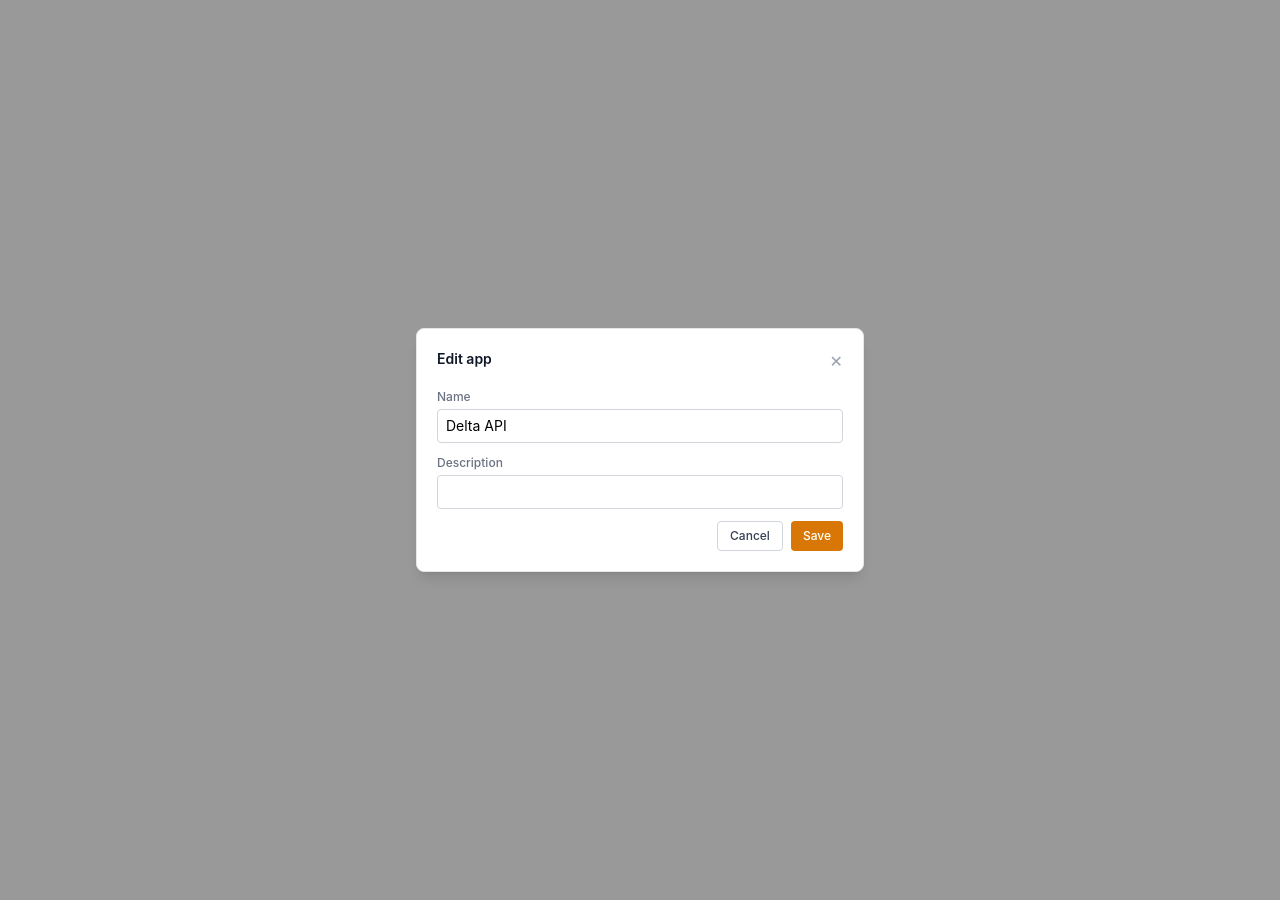
Scenario: AppFormModal › surfaces a save error instead of swallowing it
The image size is (1280, 900).
Click the button with test id "app-modal-submit" at (817, 536), box [791, 521, 843, 551]
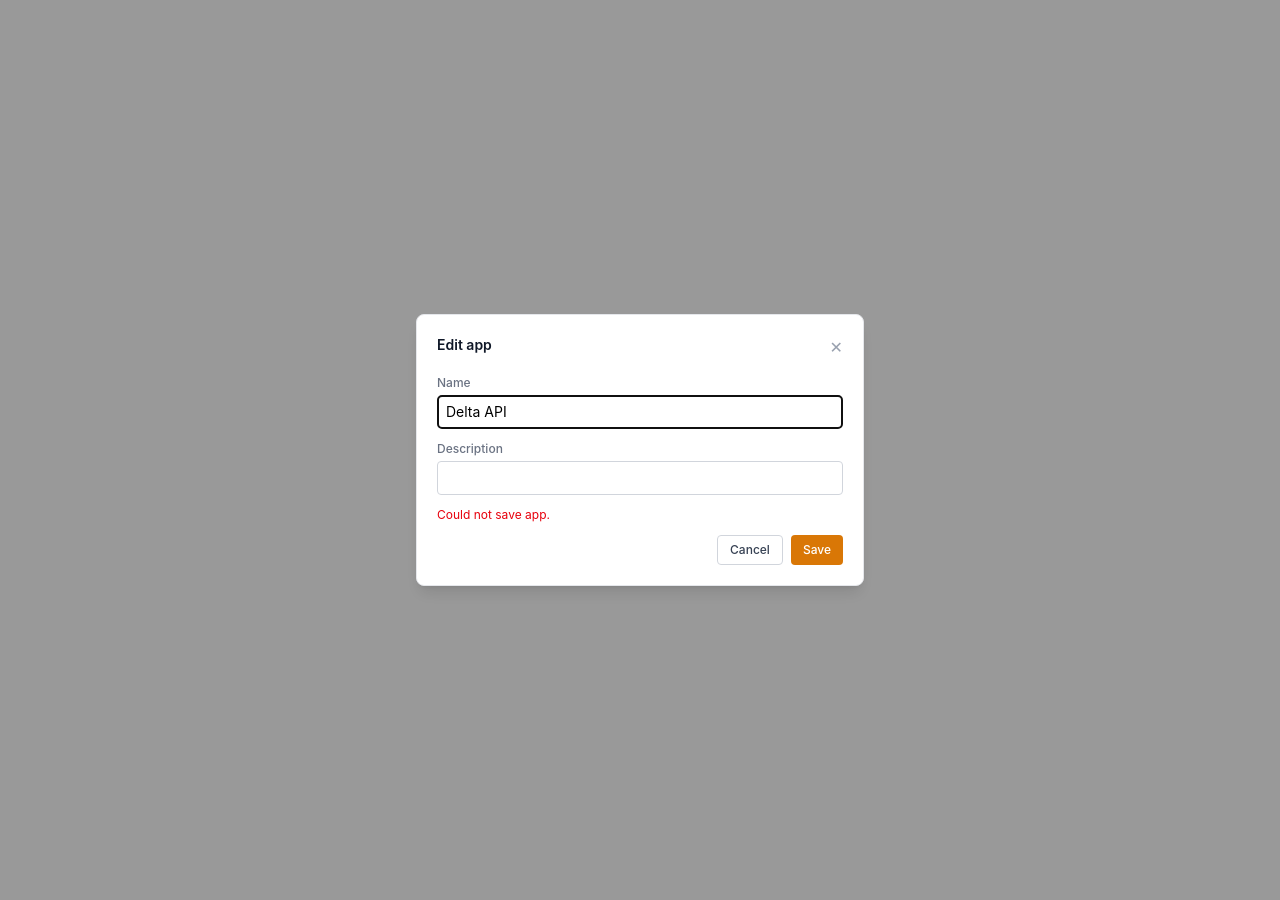
Expected: the dialog is shown, [416, 314, 864, 586]
Expected: the text "Could not save app." is shown, [437, 507, 550, 522]
